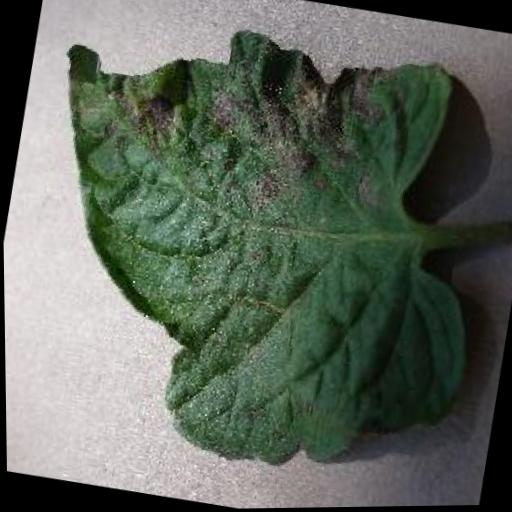Early Blight: (0, 0, 512, 493)
